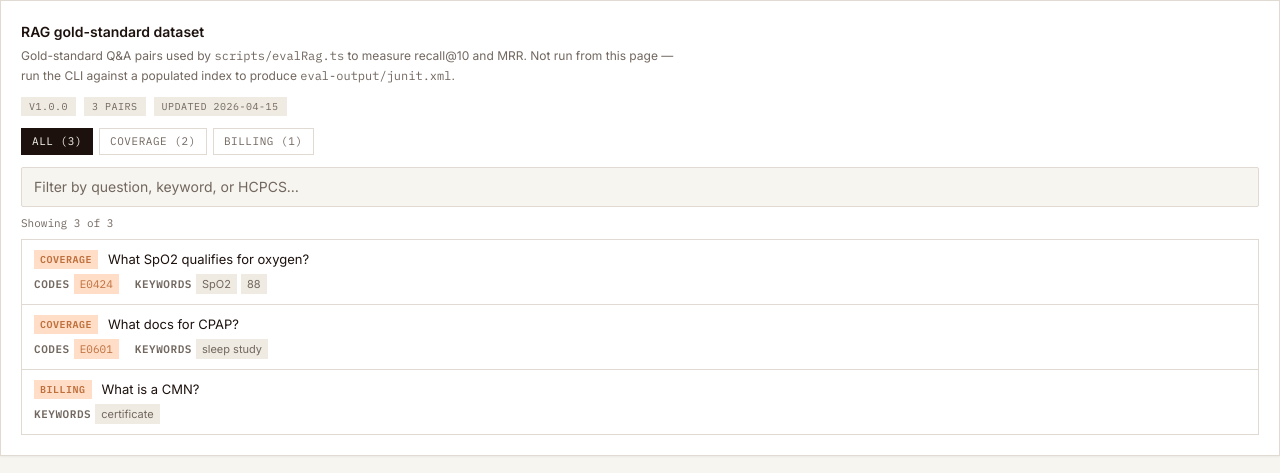
RagEvalDatasetViewer › filters by text search across questions, keywords, and codes
The width and height of the screenshot is (1280, 473).
Type "E0601" into the field with placeholder "Filter by question, keyword, or HCPCS…" at (640, 186), box [21,166,1259,206]
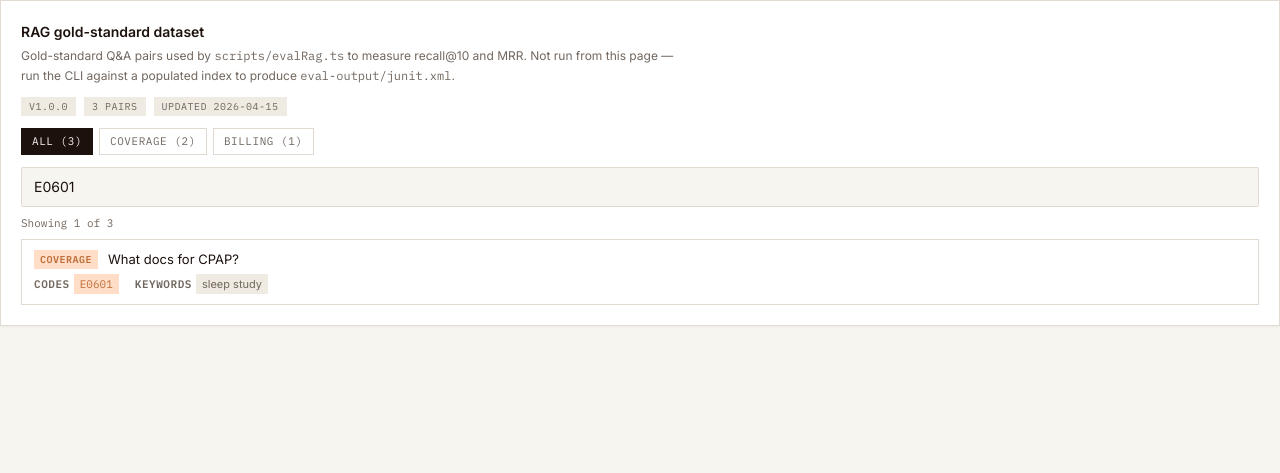
Expected: the text "What docs for CPAP?" is shown, [108,250,239,270]
Expected: the text "What SpO2 qualifies for oxygen?" is gone
Expected: the text "What is a CMN?" is gone
